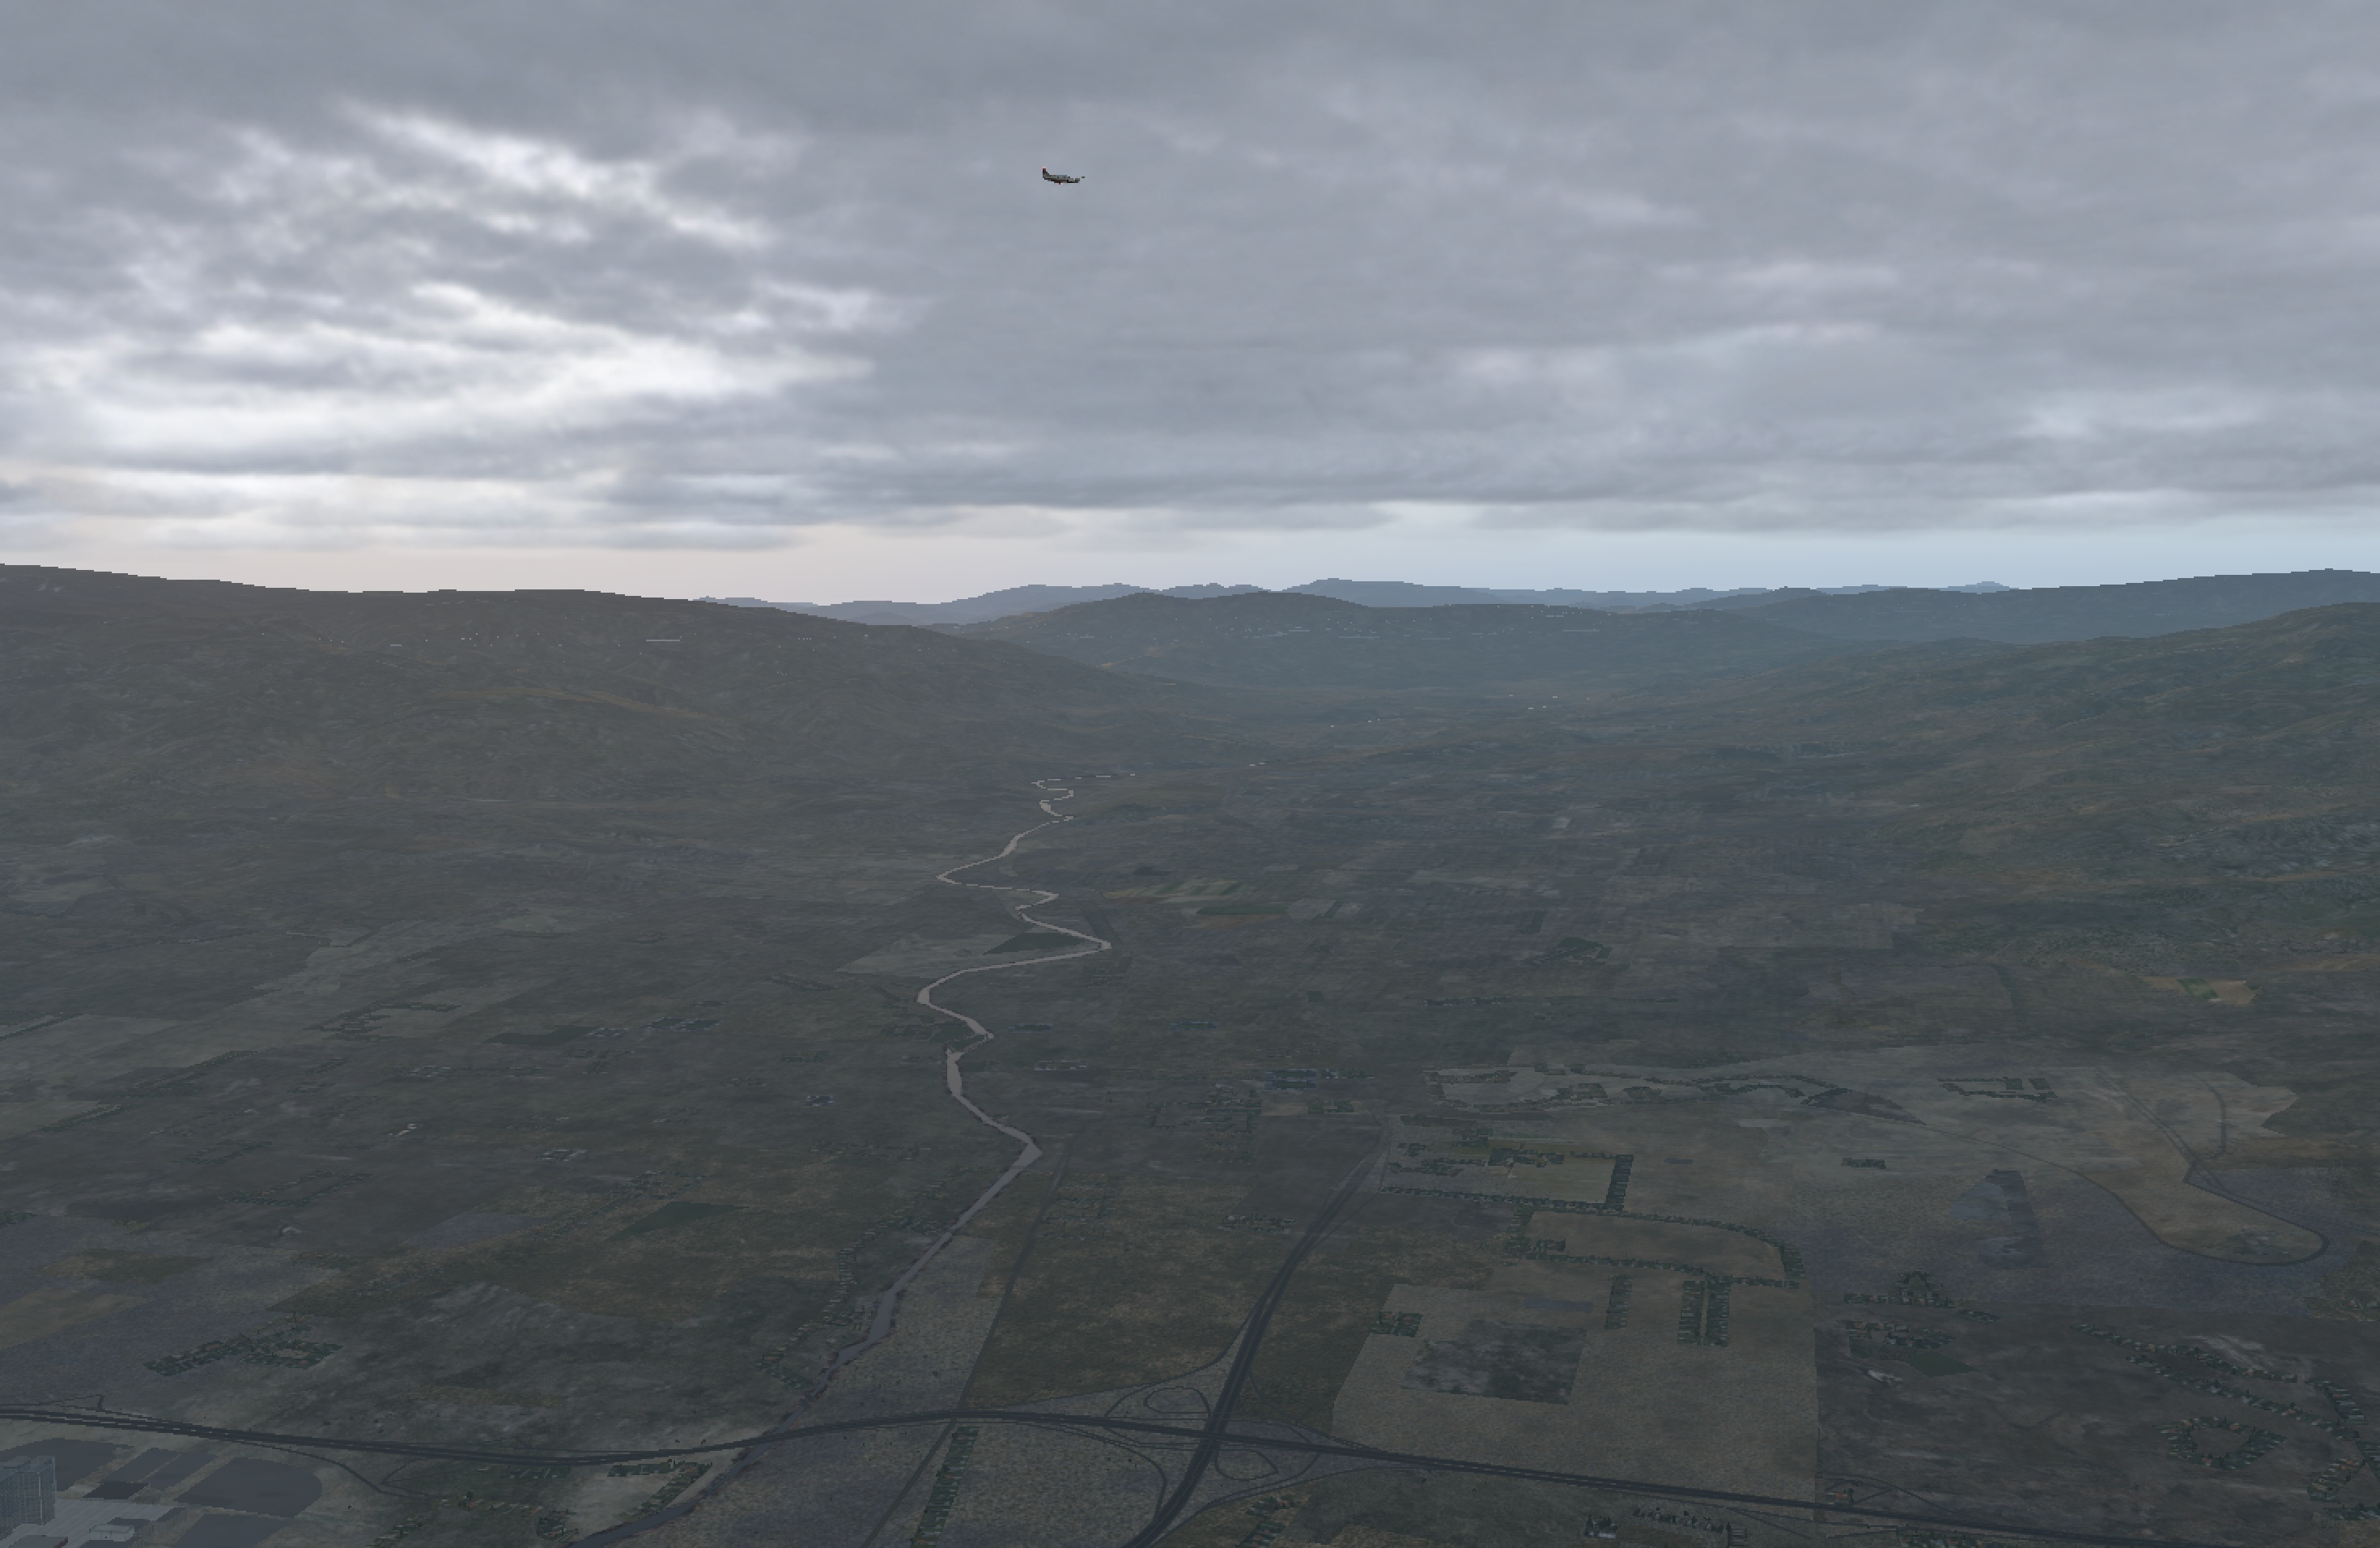aircraft: (1034, 172, 1096, 194)
